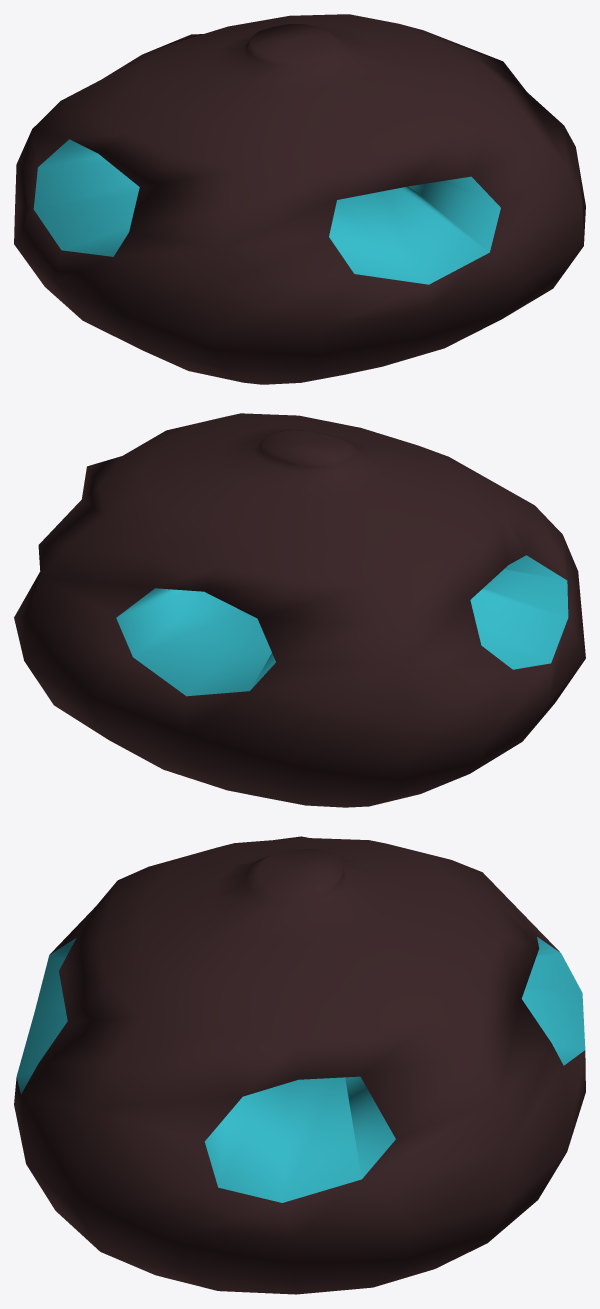
The model's file is plant_big.bx.fbx.
3 views of the same model, one above another, from view 1: azimuth 30°, elevation 25°; view 2: azimuth 150°, elevation 25°; view 3: azimuth 270°, elevation 25° (orthographic). The views are drawn at different scales.
Visible parts, largest first — view 1: Plant_big; view 2: Plant_big; view 3: Plant_big.
Boxes of the visible parts, bbox=[...] form: Plant_big: bbox=[14, 14, 585, 384]; Plant_big: bbox=[14, 413, 585, 807]; Plant_big: bbox=[14, 836, 585, 1294].
Bounding box in the file's own units: 6.97 × 4.45 × 5.93.
